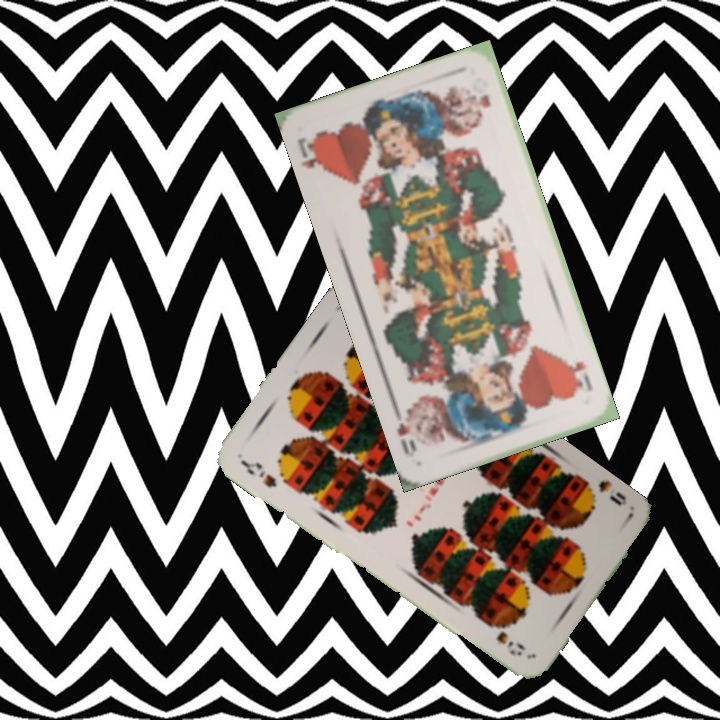HO: (294, 129, 329, 174), (562, 354, 595, 394)
S9: (578, 475, 630, 508), (236, 455, 280, 490)
